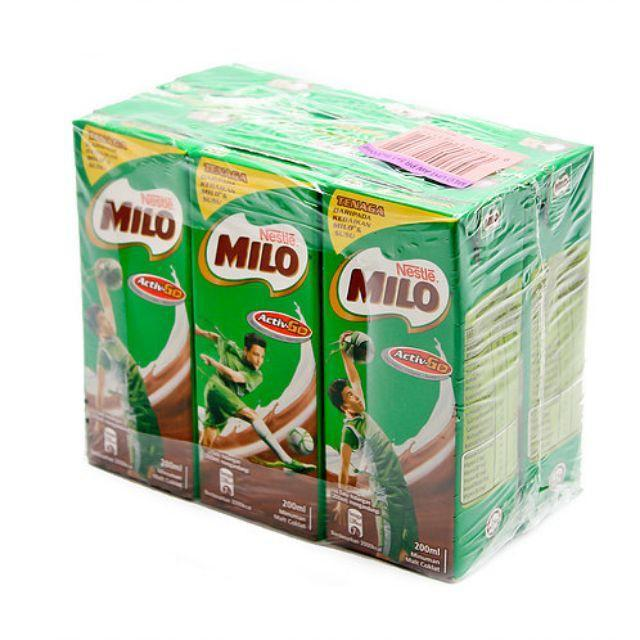drink carton: (73, 61, 588, 581)
